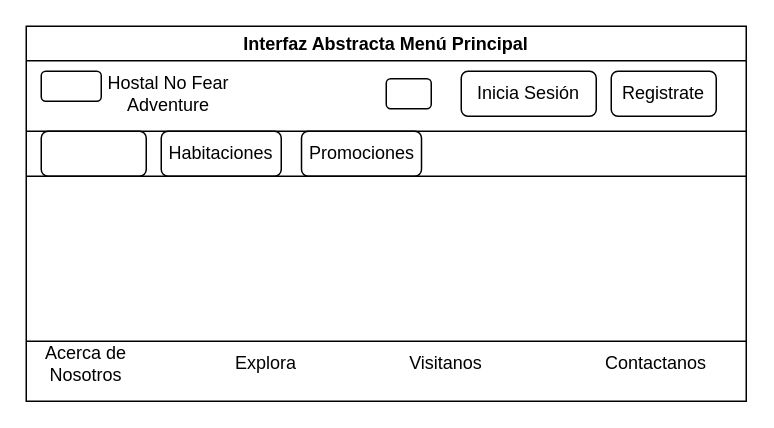
Some shapes in this 774 by 428 pixel diagram are drawn without their labels. Here are the shapes that lost their labels. From the top down, the box of each, then its label:
(40, 70, 101, 101): img
(385, 77, 431, 109): Es
(40, 130, 146, 176): Reserva
